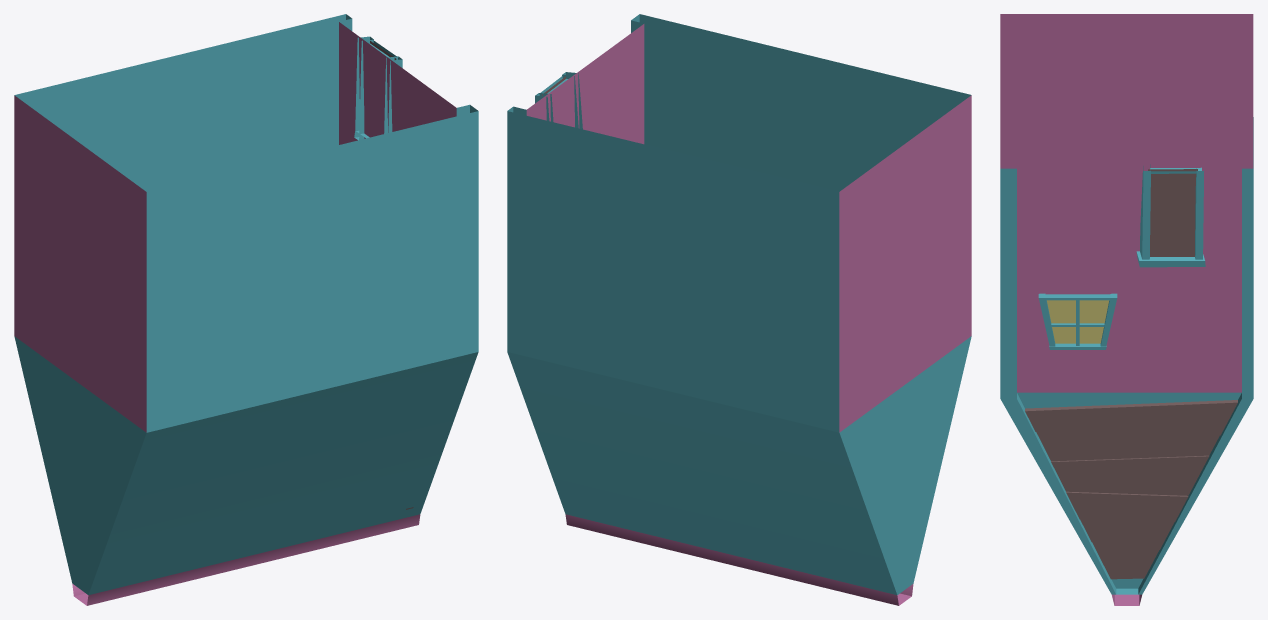
The model's file is buil_ding2.fbx.
3 views of the same model, side by side, from view 1: azimuth 30°, elevation 25°; view 2: azimuth 150°, elevation 25°; view 3: azimuth 270°, elevation 25° (orthographic). The views are drawn at different scales.
Visible parts, largest first — view 1: Hansel:pCube76; view 2: Hansel:pCube76; view 3: Hansel:pCube76.
Part boxes in pixels (x1,y1,x2,y2): Hansel:pCube76: (14,14,478,605); Hansel:pCube76: (507,14,971,605); Hansel:pCube76: (1000,14,1253,605).
Bounding box in the file's own units: 1.37 × 1.8 × 0.9458.
